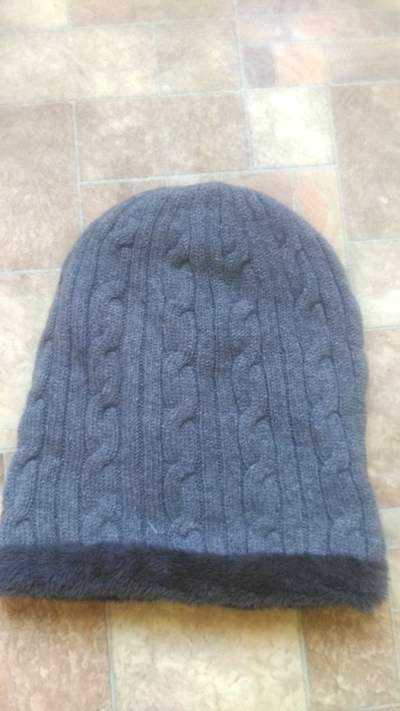Hat: (2, 120, 382, 636)
